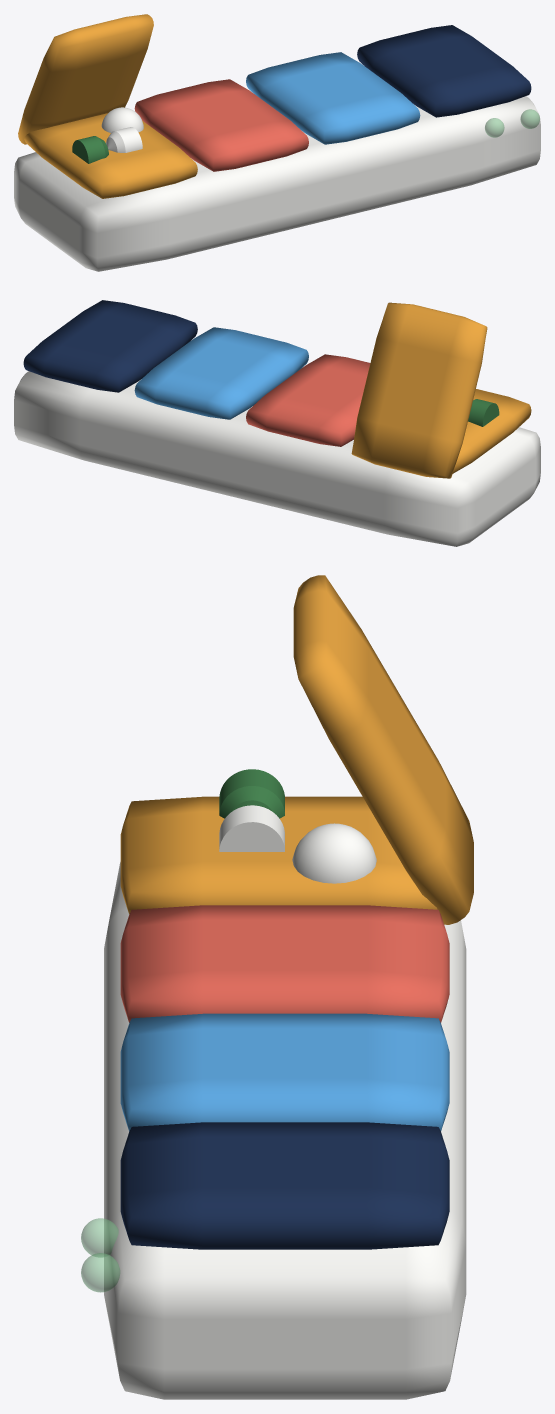
Rendered from doses.glb.
The picture shows the model from 3 angles, top to bottom: view 1: azimuth 30°, elevation 25°; view 2: azimuth 150°, elevation 25°; view 3: azimuth 270°, elevation 25°; orthographic projection. The views are drawn at different scales.
Visible parts, largest first — view 1: doses; view 2: doses; view 3: doses.
Boxes of the visible parts, x1,y1,x2,y2 form: doses: [14, 14, 540, 271]; doses: [14, 300, 540, 546]; doses: [81, 575, 473, 1399].
Bounding box in the file's own units: 3.2 × 1.4 × 1.19.
